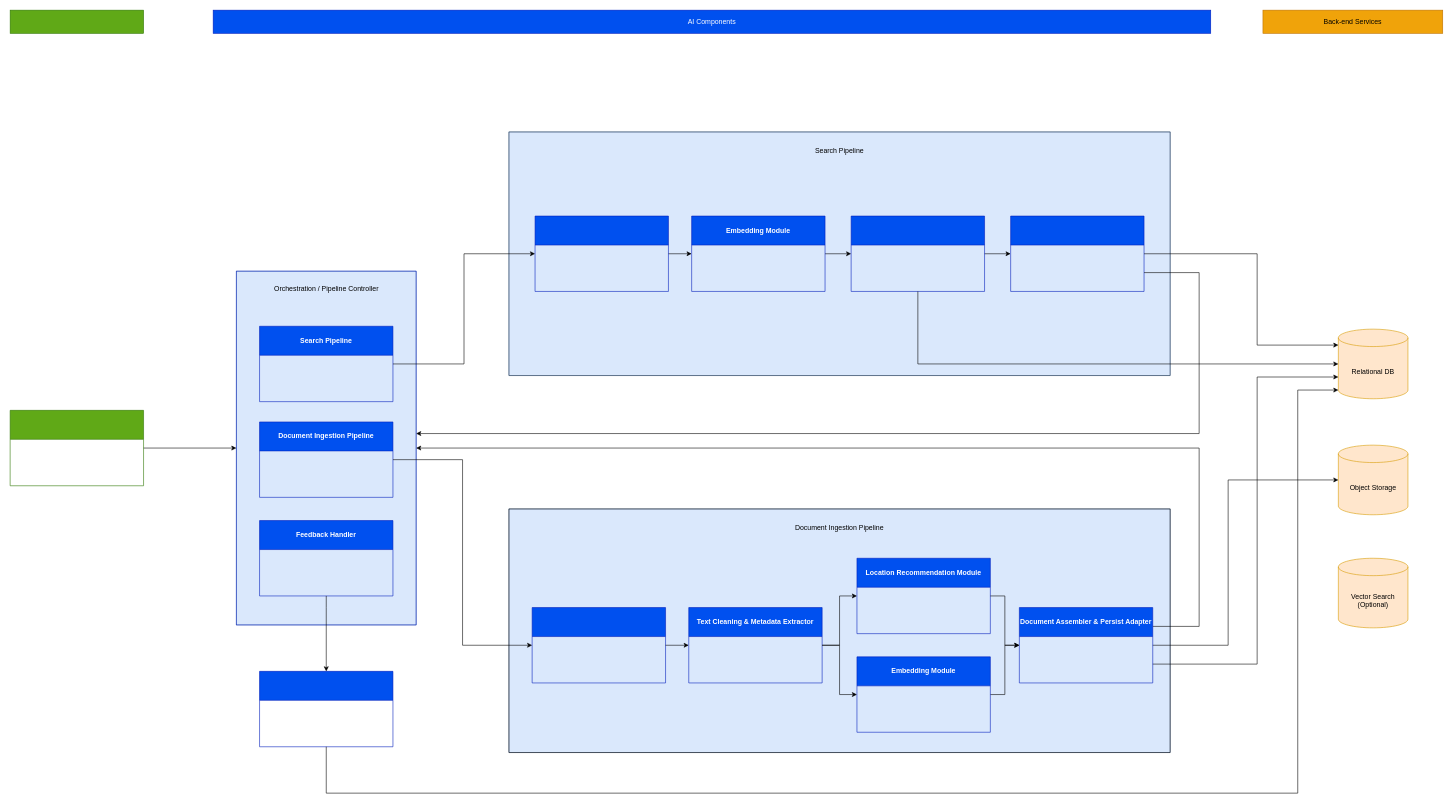
Image size: 1453x808. Some labels were removed from this diagram. Each missing label, with the centre of its shape:
Feedback Collector: point (326, 709)
Front-end Services: point (77, 21)
OCR / Image-to-Text Module: point (599, 645)
Query Embedding & Similarity Search Module: point (918, 253)
Query Understanding & Normalization Module: point (601, 253)
Result Assembler & Ranking Module: point (1077, 253)
Web Service: point (77, 448)
